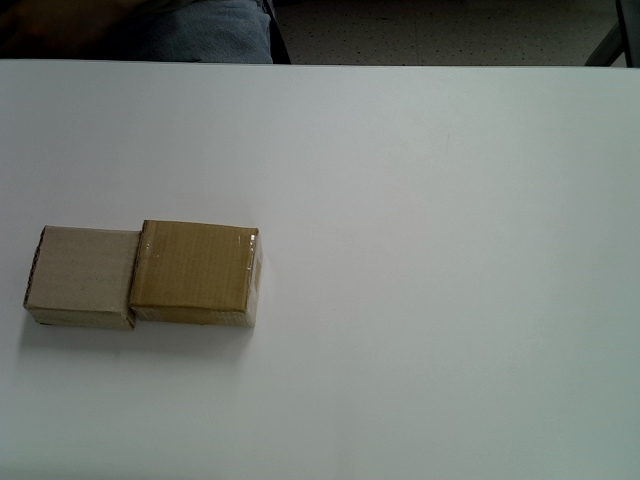normal: (129, 219, 265, 327), (23, 225, 142, 330)
